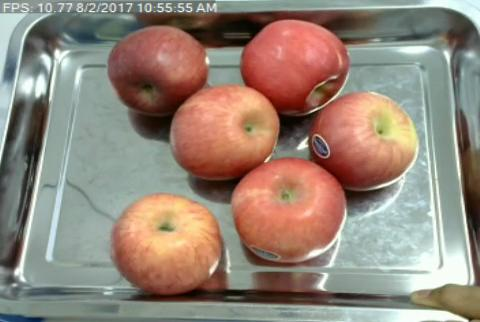apple: (234, 159, 347, 262), (110, 194, 224, 296), (169, 85, 280, 179), (313, 92, 419, 190), (242, 20, 349, 115), (107, 25, 207, 111)
